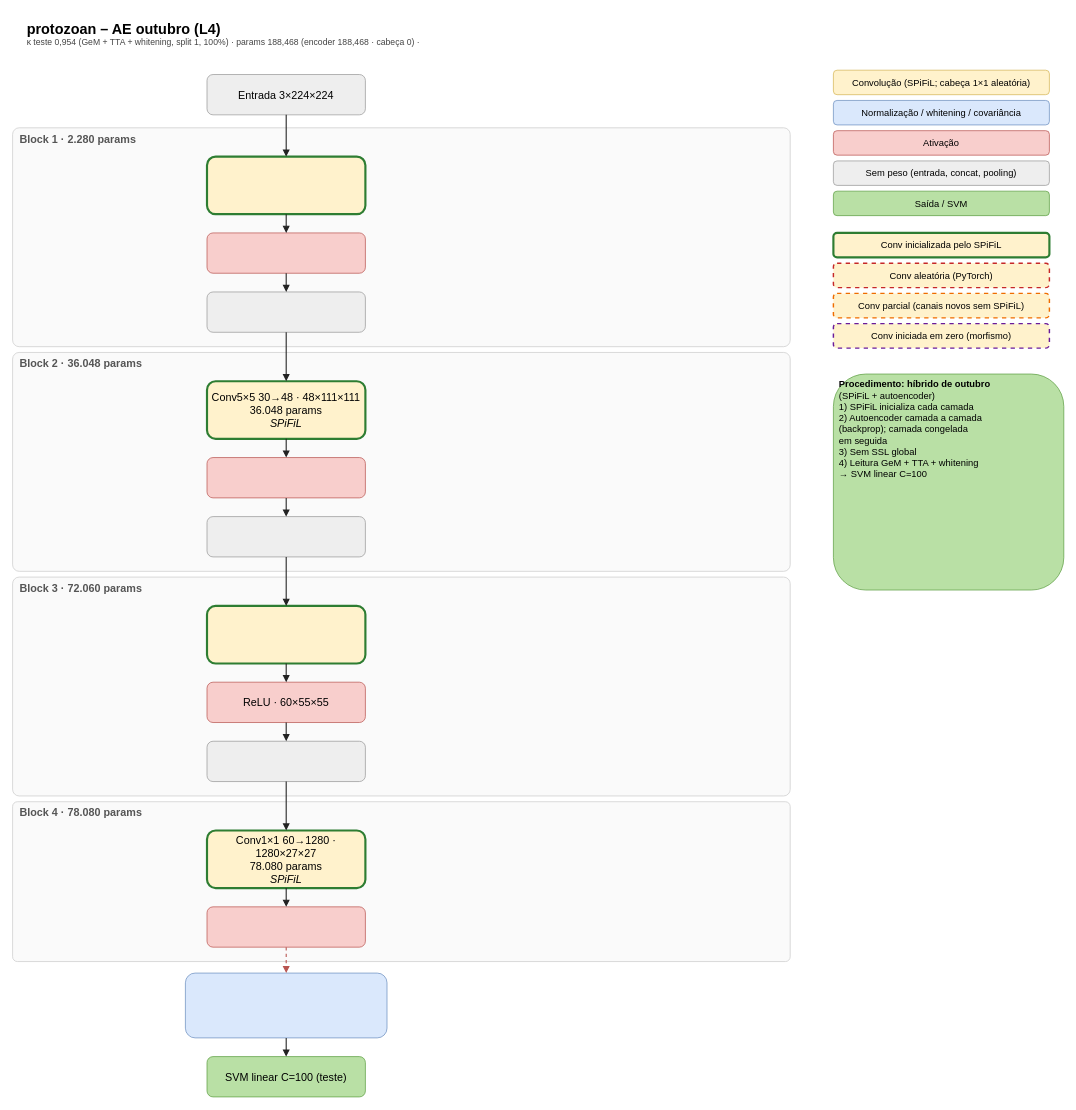
This 1076x1110 diagram has some shape labels left out. Here are the shapes that lost their labels. From the top down, the centre of each, then its label:
(286,185): Conv5×5 3→30 · 30×224×224 2.280 params SPiFiL
(285,252): ReLU · 30×224×224
(285,311): MaxPool 3×3 s2 · 30×111×111
(285,477): ReLU · 48×111×111
(285,536): MaxPool 3×3 s2 · 48×55×55
(286,634): Conv5×5 48→60 · 60×55×55 72.060 params SPiFiL
(285,761): MaxPool 3×3 s2 · 60×27×27
(285,926): ReLU · 1280×27×27
(286,1005): Leitura GeM + TTA + whitening sobre o mapa 1280×27×27 (sem treino)
